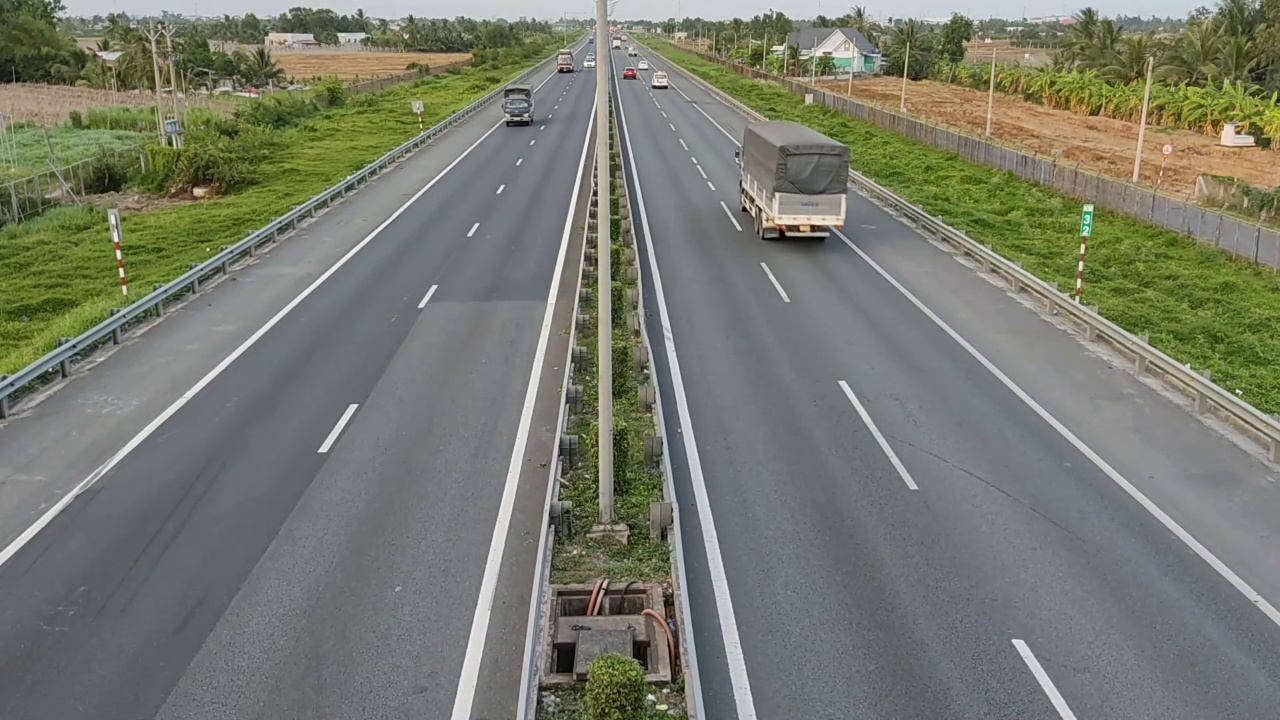truck: (735, 119, 851, 241)
